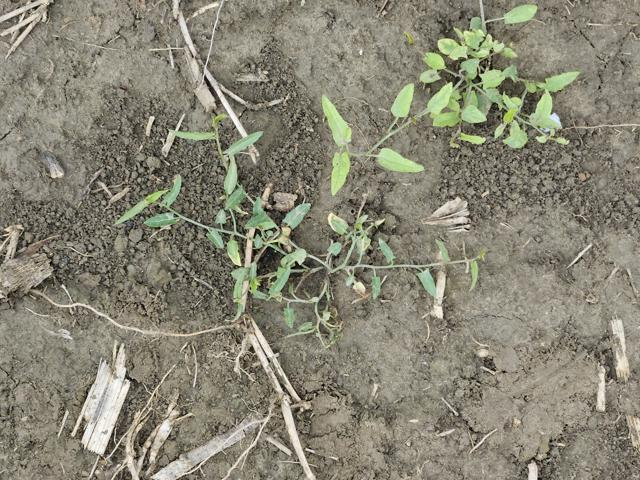bad weed: (119, 132, 481, 356), (324, 22, 597, 183)
